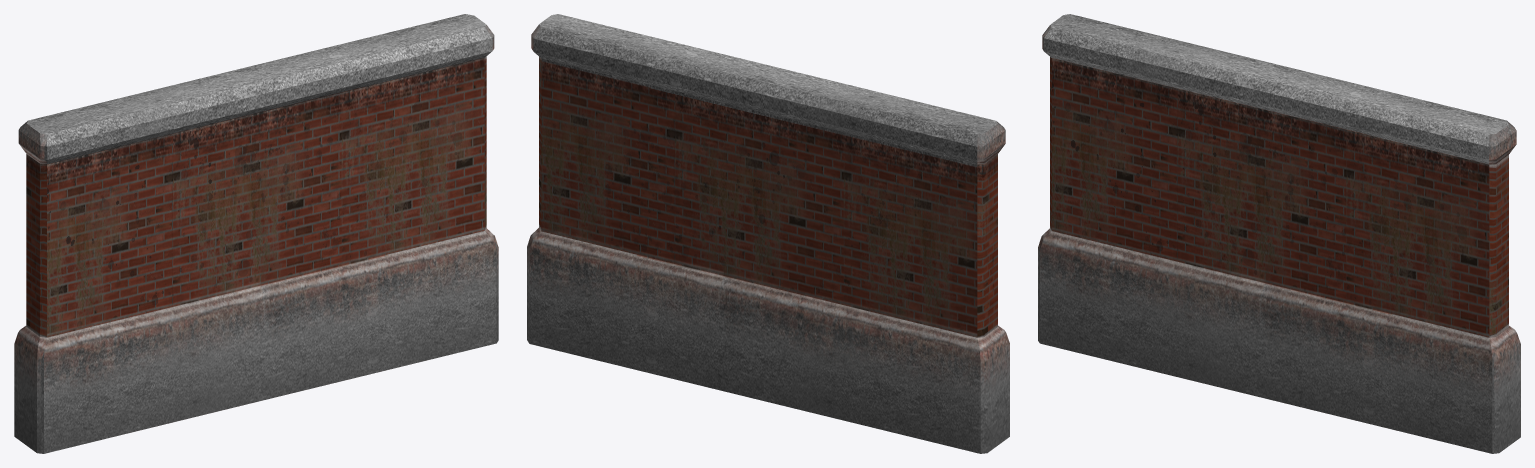
Rendered from Wall.fbx.
3 renders of one model, left to right at view 1: azimuth 30°, elevation 25°; view 2: azimuth 150°, elevation 25°; view 3: azimuth 330°, elevation 25°, orthographic.
Parts seen in each view (by area): view 1: pCube7; view 2: pCube7; view 3: pCube7.
Part boxes in pixels (x1,y1,x2,y2): pCube7: (14,14,498,453); pCube7: (527,14,1009,453); pCube7: (1038,14,1520,453).
Bounding box in the file's own units: 341 × 222 × 35.23.
